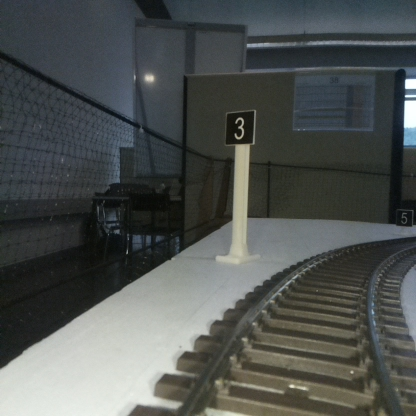black-info-3: (225, 110, 255, 260)
